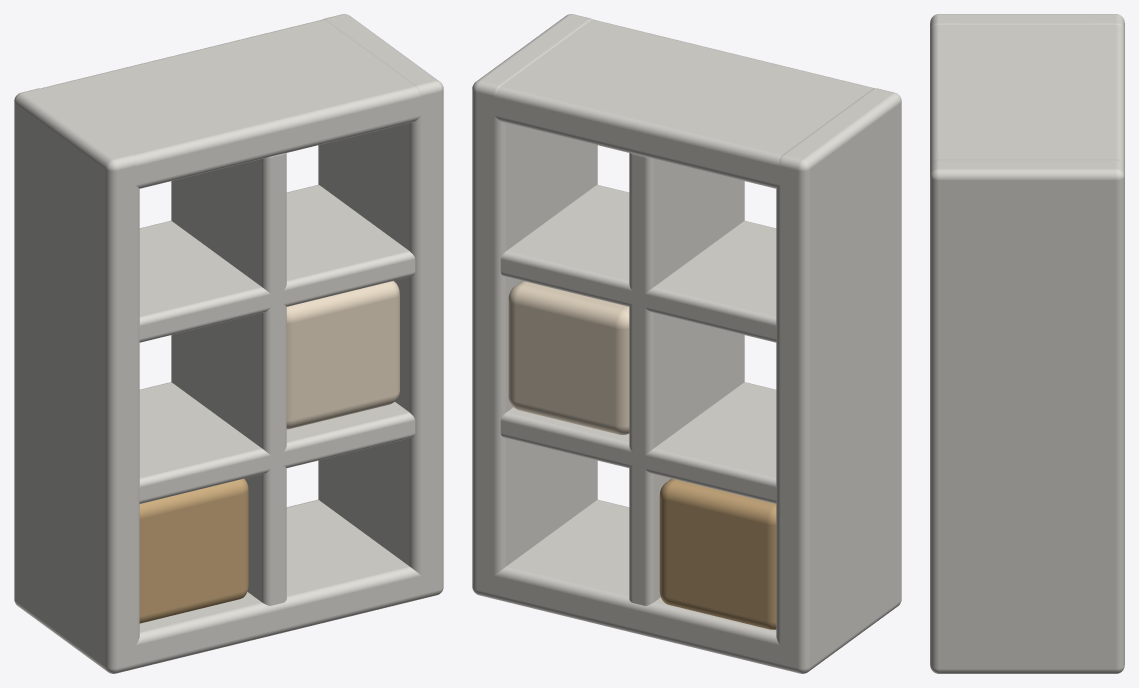
Rendered from ikea-kallax.glb.
3 renders of one model, left to right at view 1: azimuth 30°, elevation 25°; view 2: azimuth 150°, elevation 25°; view 3: azimuth 270°, elevation 25°, orthographic.
Parts seen in each view (by area): view 1: primary (×7), cream, accent; view 2: primary (×7), cream, accent; view 3: primary (×4).
Part boxes in pixels (x1,y1,x2,y2): primary (×7): (14,14,443,673); cream: (286,281,399,429); accent: (139,479,248,623); primary (×7): (472,14,901,673); cream: (508,281,629,435); accent: (659,478,776,629); primary (×4): (930,14,1124,673).
Bounding box in the file's own units: 0.765 × 1.12 × 0.39.
